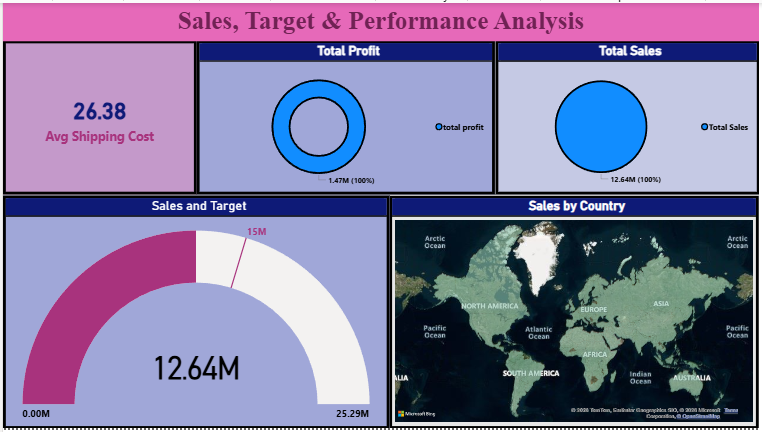

The dashboard page shown, as its layout file describes it:
{"tool":"powerbi","page":{"name":"Page 1","canvas":[1280,720],"ordinal":0},"visuals":[{"type":"filledMap","title":" Sales by Country","fields":{"Category":["Orders.Country"]},"box":[654.5,325.2,625.7,395.2],"z":0},{"type":"gauge","title":" Sales and Target","fields":{"Y":["Sum(Orders.Sales)"],"TargetValue":["Orders.Target"]},"box":[0,325.2,654.5,395.2],"z":1000},{"type":"pieChart","fields":{"Y":["Orders.Total Sales"]},"box":[832.9,64.5,447.3,260.7],"z":2000},{"type":"donutChart","title":"Total Profit","fields":{"Y":["Orders.total profit"]},"box":[328,64.5,505,260.7],"z":3000},{"type":"card","fields":{"Values":["Orders.Avg Shipping Cost"]},"box":[0,64.5,328,260.7],"z":4000},{"type":"textbox","box":[0,0,1280.3,64.5],"z":5000}]}

Visuals, with their boxes in screenshot pixels (x1, y1, x2, y2), scaled from the page's 1280x720 canvas onto the 762x432 screenshot:
" Sales by Country" filledMap: locate(390, 195, 761, 431)
" Sales and Target" gauge: locate(0, 195, 390, 431)
pieChart - Orders.Total Sales: locate(496, 39, 761, 195)
"Total Profit" donutChart: locate(195, 39, 496, 195)
card - Orders.Avg Shipping Cost: locate(0, 39, 195, 195)
textbox: locate(0, 0, 761, 39)
